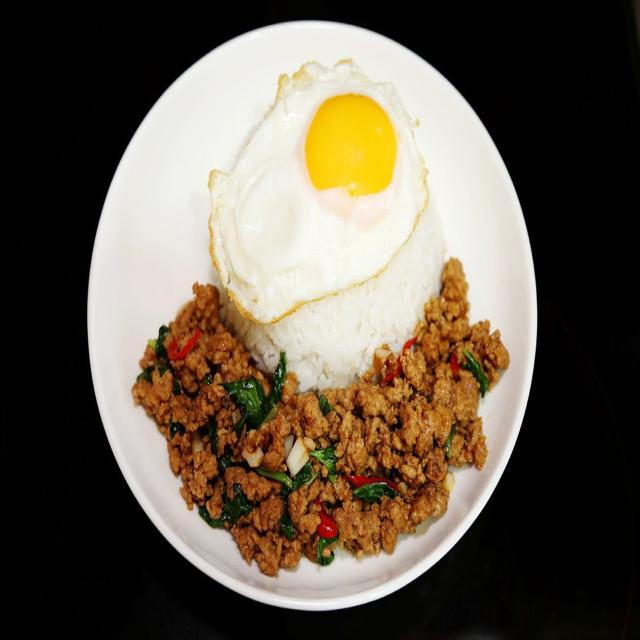basil chicken rice: (123, 78, 521, 584)
carb: (247, 256, 457, 364)
meat: (163, 329, 510, 547)
